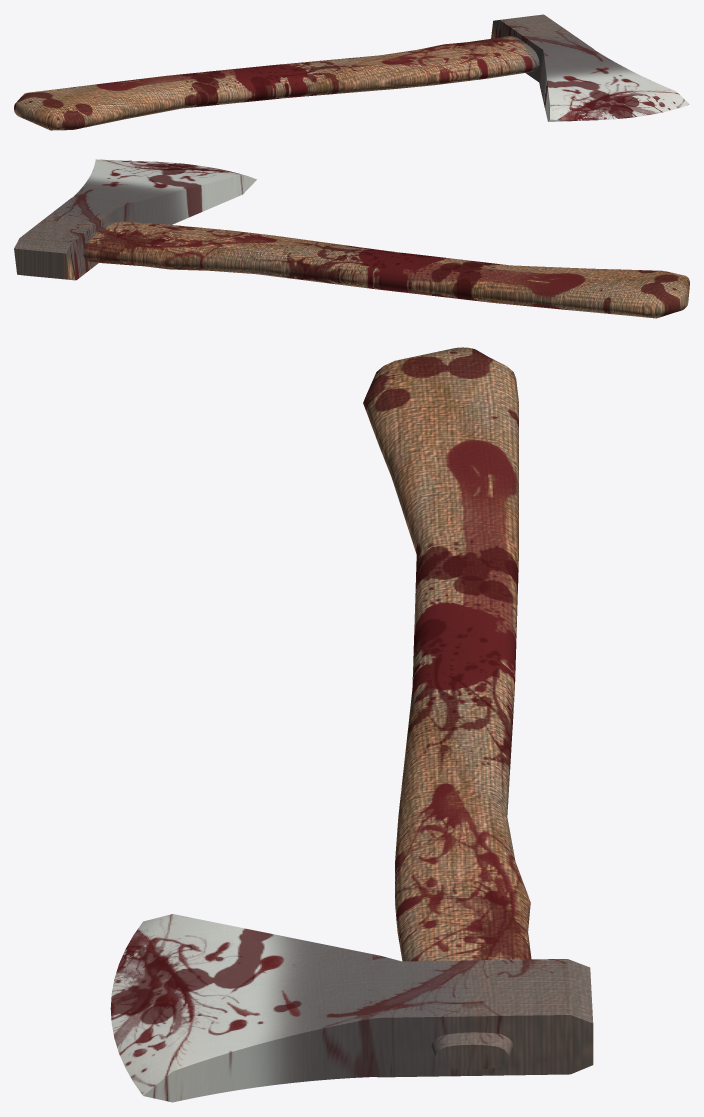
File: axe.fbx
The picture shows the model from 3 angles, top to bottom: view 1: azimuth 30°, elevation 25°; view 2: azimuth 150°, elevation 25°; view 3: azimuth 270°, elevation 25°; orthographic projection. The views are drawn at different scales.
Parts seen in each view (by area): view 1: Axe1_Component#8_001; view 2: Axe1_Component#8_001; view 3: Axe1_Component#8_001.
Part boxes in pixels (x1=…): Axe1_Component#8_001: x1=14, y1=14, x2=689, y2=130; Axe1_Component#8_001: x1=14, y1=159, x2=689, y2=318; Axe1_Component#8_001: x1=110, y1=347, x2=593, y2=1102.
Size of the model in its own units: 4.66 by 0.7519 by 1.64.
1 material, 1 textured.
